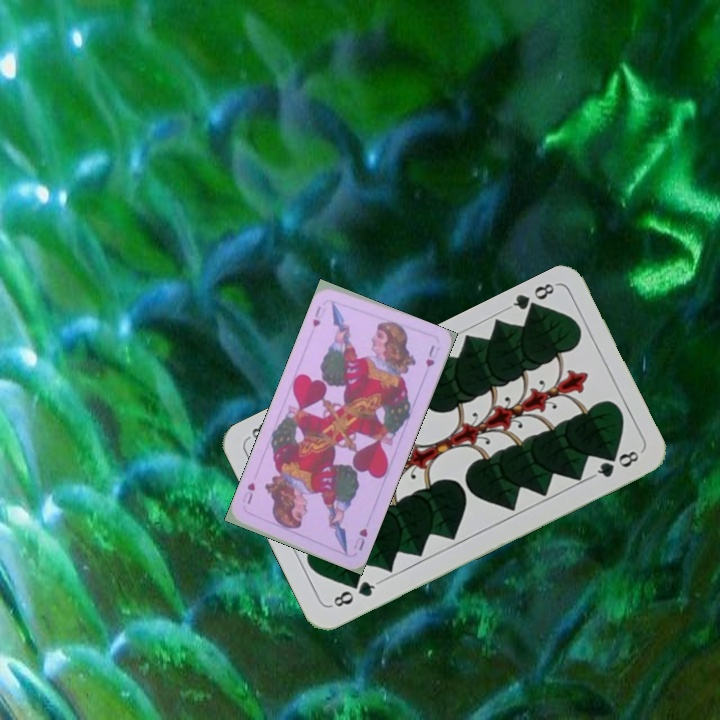G8: (503, 279, 559, 318), (327, 577, 382, 610)
HU: (349, 524, 370, 553), (308, 302, 324, 330)
